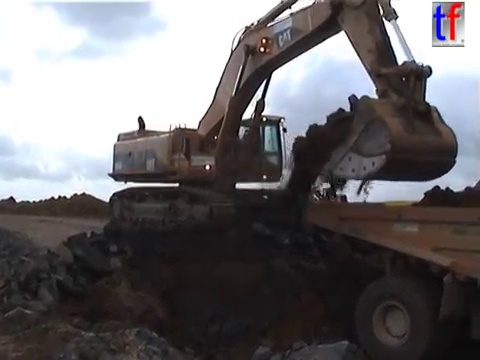excavator: (105, 1, 461, 236)
truck: (293, 198, 480, 360)
wheel loader: (298, 184, 350, 212)
